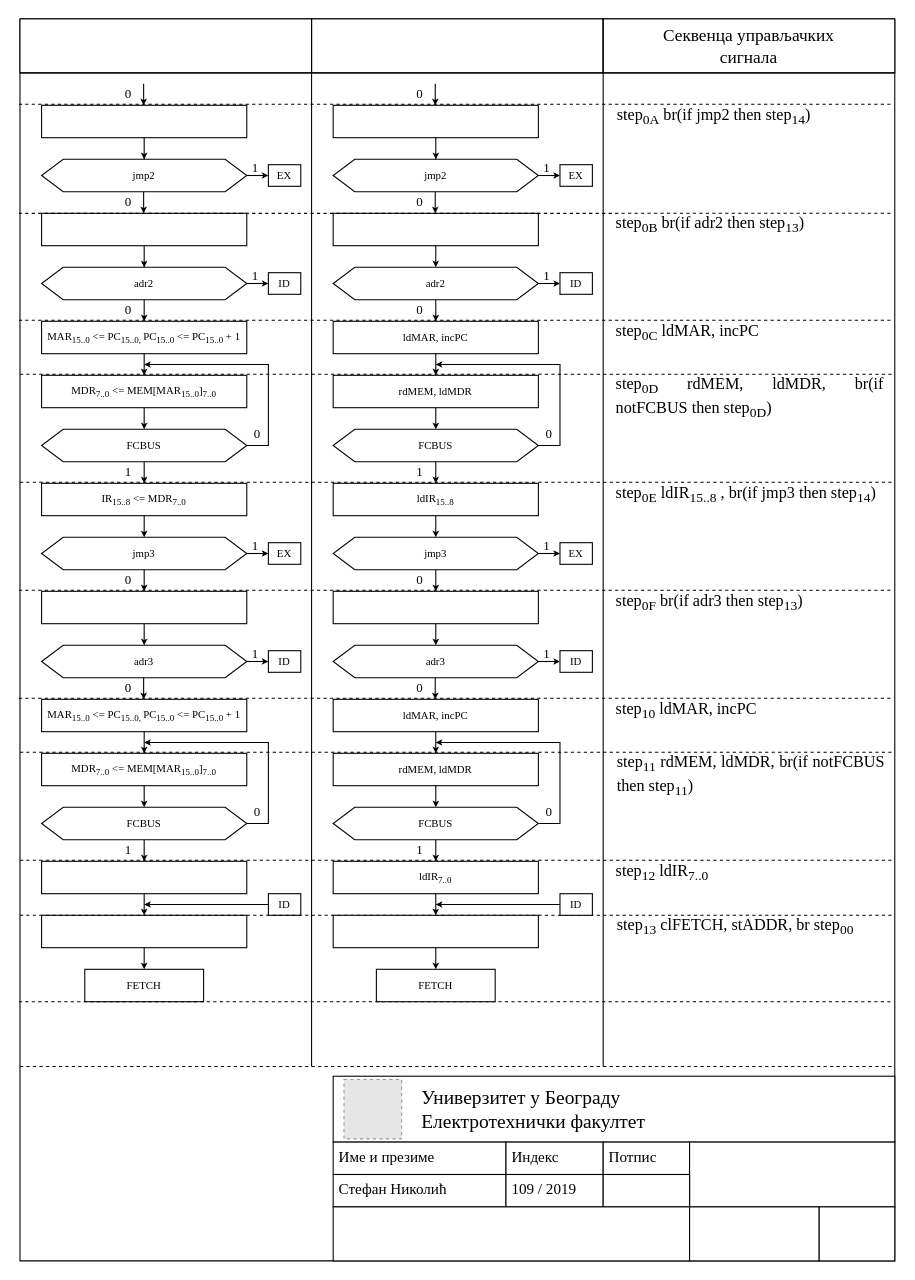
This 915x1280 diagram has some shape labels left out. Grey dashed boxes stand in for pictures. The shapes that lost their labels are listed below. From the top down, each one's centre as x and y in pixels, then its label:
point 165,45: Дијаграм тока микрооперација
point 456,45: Дијаграм тока управљачких сигнала
point 143,877: IR 7..0 <= MDR 7..0
point 143,931: FETCH <= 0, ADDR <= 1
point 435,931: clFETCH, stADDR
point 791,1174: Пројекат Задатак 209
point 511,1233: Назив Основи рачунарске технике 2
point 753,1233: Датум 25.09.2021.
point 856,1233: Страна 2
